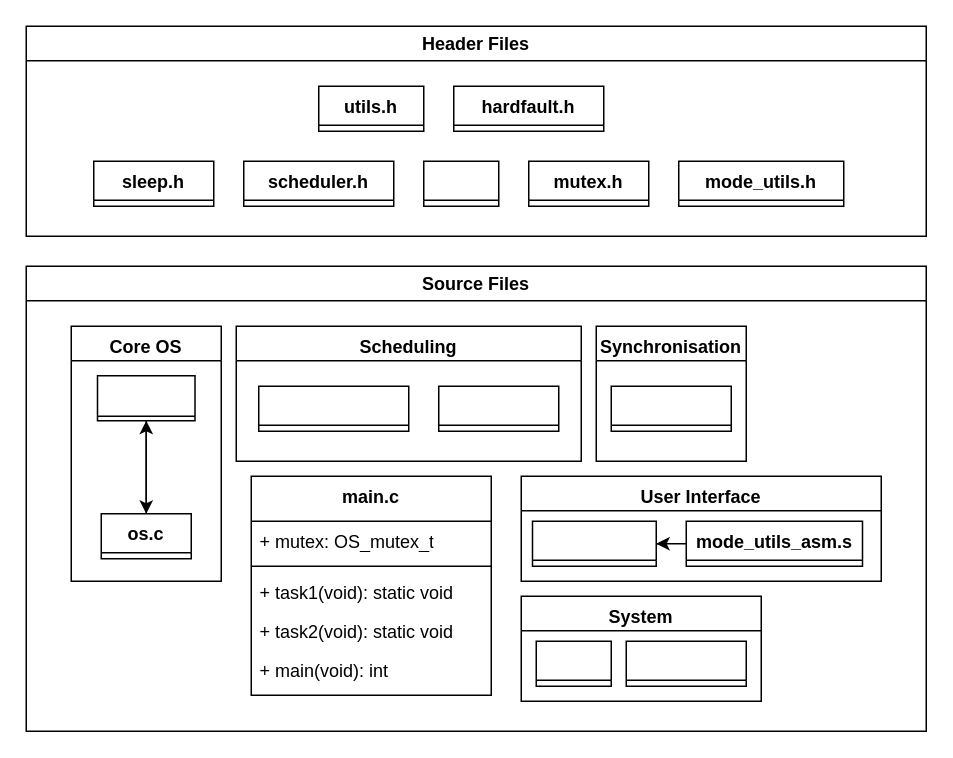
The diagram is 953 pixels wide and 758 high, and some of its shapes have lost their labels. The centre of each missing label's shape, as x and y in pixels:
"hardfault.c" goes at (685,663).
"mode_utils.c" goes at (593,543).
"mutex.c" goes at (670,408).
"os.h" goes at (460,183).
"os_asm.s" goes at (145,397).
"scheduler.c" goes at (333,408).
"sleep.c" goes at (498,408).
"utils.c" goes at (573,663).
